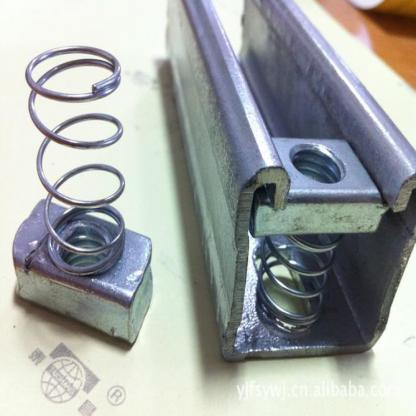FOD: (20, 43, 128, 282)
